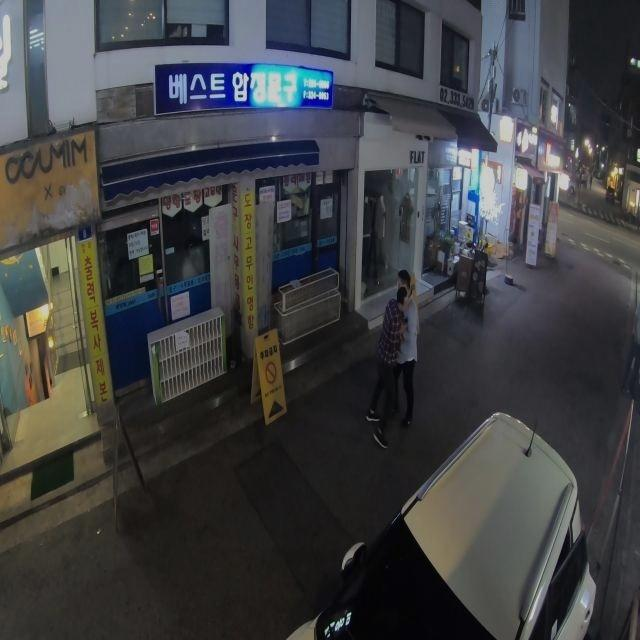fight: (363, 268, 422, 449)
